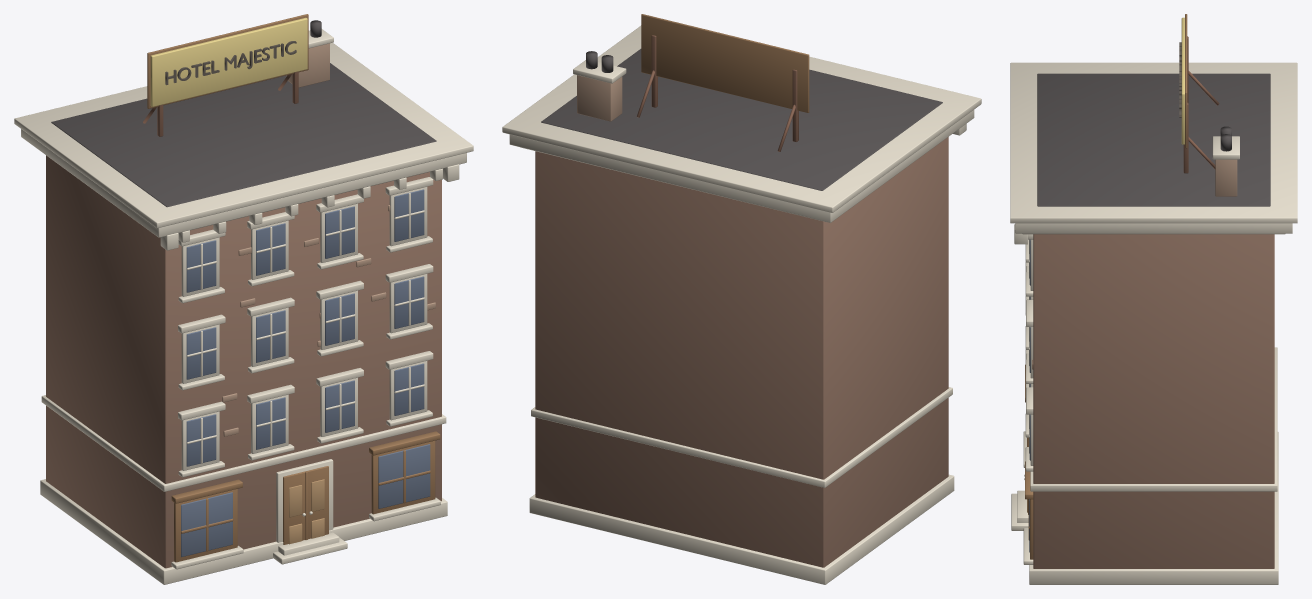
The model's file is edificio_09.glb.
3 views of the same model, side by side, from view 1: azimuth 30°, elevation 25°; view 2: azimuth 150°, elevation 25°; view 3: azimuth 270°, elevation 25° (orthographic). The views are drawn at different scales.
Parts seen in each view (by area): view 1: corpo, tetto, cornicione_corona, cart_pannello, zoccolo, cornicione_fascia, fascia_pt, vetrina_vetro_R, vetrina_vetro_L, fin_p1_2_vetro, fin_p2_2_vetro, fin_p1_0_vetro (+33 smaller); view 2: corpo, tetto, cornicione_corona, cart_cornice, zoccolo, cornicione_fascia, fascia_pt, comignolo_fusto, comignolo_cappello; view 3: corpo, tetto, cornicione_corona, zoccolo, cornicione_fascia, fascia_pt, comignolo_fusto, cornicione_gola, comignolo_cappello, cart_pannello, cart_cornice.
Boxes of the visible parts, x1,y1,x2,y2 form: corpo: (46, 155, 441, 568); tetto: (51, 63, 436, 207); cornicione_corona: (14, 42, 473, 228); cart_pannello: (150, 17, 307, 106); zoccolo: (40, 479, 447, 584); cornicione_fascia: (21, 129, 466, 237); fascia_pt: (41, 395, 446, 491); vetrina_vetro_R: (378, 444, 430, 508); vetrina_vetro_L: (181, 492, 232, 557); fin_p1_2_vetro: (325, 380, 354, 432); fin_p2_2_vetro: (325, 293, 354, 345); fin_p1_0_vetro: (186, 414, 216, 466); corpo: (535, 137, 948, 567); tetto: (541, 49, 942, 190); cornicione_corona: (502, 25, 981, 212); cart_cornice: (641, 14, 809, 112); zoccolo: (529, 474, 954, 584); cornicione_fascia: (509, 110, 974, 222); fascia_pt: (531, 387, 952, 487); comignolo_fusto: (577, 75, 622, 121); comignolo_cappello: (573, 60, 626, 83); corpo: (1033, 234, 1274, 568); tetto: (1037, 73, 1270, 206); cornicione_corona: (1010, 62, 1297, 223); zoccolo: (1029, 432, 1278, 584); cornicione_fascia: (1015, 223, 1292, 233); fascia_pt: (1030, 347, 1277, 491); comignolo_fusto: (1215, 159, 1237, 196); cornicione_gola: (1022, 233, 1285, 234); comignolo_cappello: (1212, 136, 1239, 159); cart_pannello: (1181, 17, 1184, 144); cart_cornice: (1185, 14, 1187, 148).
Size of the model in its own units: 9.15 by 12.69 by 7.15.
